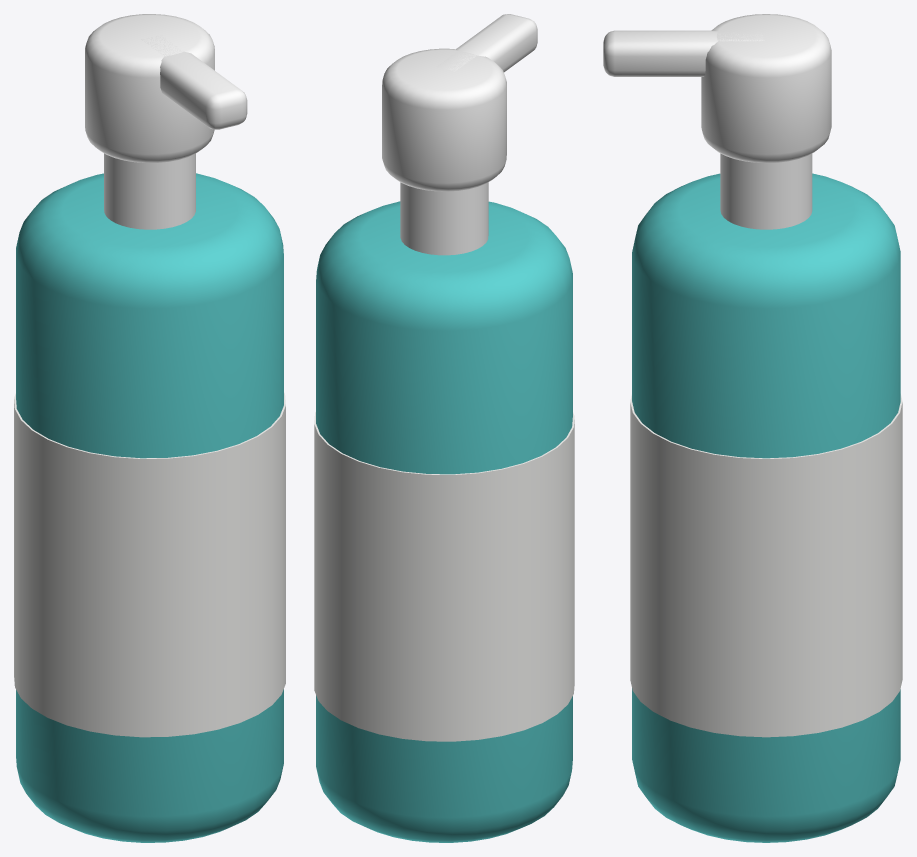
The model's file is ShampooBottle.glb.
The picture shows the model from 3 angles, left to right: view 1: azimuth 30°, elevation 25°; view 2: azimuth 150°, elevation 25°; view 3: azimuth 270°, elevation 25°; orthographic projection. The views are drawn at different scales.
Parts seen in each view (by area): view 1: ShampooBottle; view 2: ShampooBottle; view 3: ShampooBottle.
Part boxes in pixels (x1,y1,x2,y2): ShampooBottle: (14,14,285,842); ShampooBottle: (314,14,574,842); ShampooBottle: (603,14,902,842).
Size of the model in its own units: 0.071 by 0.22 by 0.078.
